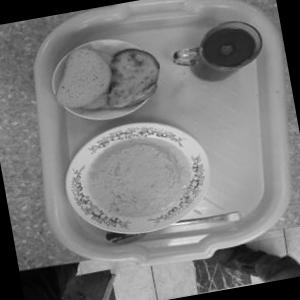bread: (41, 32, 125, 119)
cheese_sandwich: (96, 41, 165, 116)
coffee: (155, 7, 268, 99)
porridge: (61, 112, 226, 248)
